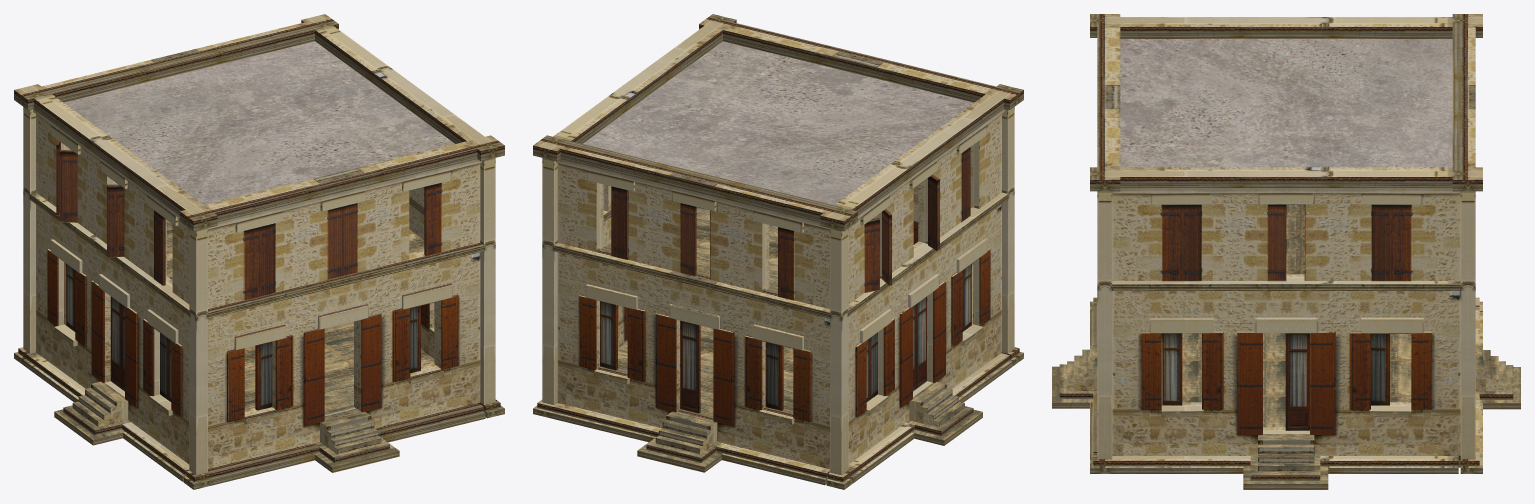
File: BagBuilding8_140.fbx
3 renders of one model, left to right at view 1: azimuth 30°, elevation 25°; view 2: azimuth 150°, elevation 25°; view 3: azimuth 270°, elevation 25°, orthographic. The views are drawn at different scales.
Visible parts, largest first — view 1: mainA140, roofA140, stairsfloorB140; view 2: mainA140, roofA140, stairsfloorB140; view 3: mainA140, roofA140, stairsfloorB140.
Part boxes in pixels (left/top/right/bottom): mainA140: left=14, top=14, right=504, bottom=489; roofA140: left=64, top=41, right=454, bottom=205; stairsfloorB140: left=54, top=220, right=434, bottom=467; mainA140: left=533, top=14, right=1023, bottom=489; roofA140: left=583, top=41, right=973, bottom=205; stairsfloorB140: left=604, top=207, right=982, bottom=466; mainA140: left=1052, top=14, right=1520, bottom=489; roofA140: left=1120, top=39, right=1452, bottom=167; stairsfloorB140: left=1052, top=204, right=1520, bottom=483.
Bounding box in the file's own units: 21.69 × 15 × 21.69.
